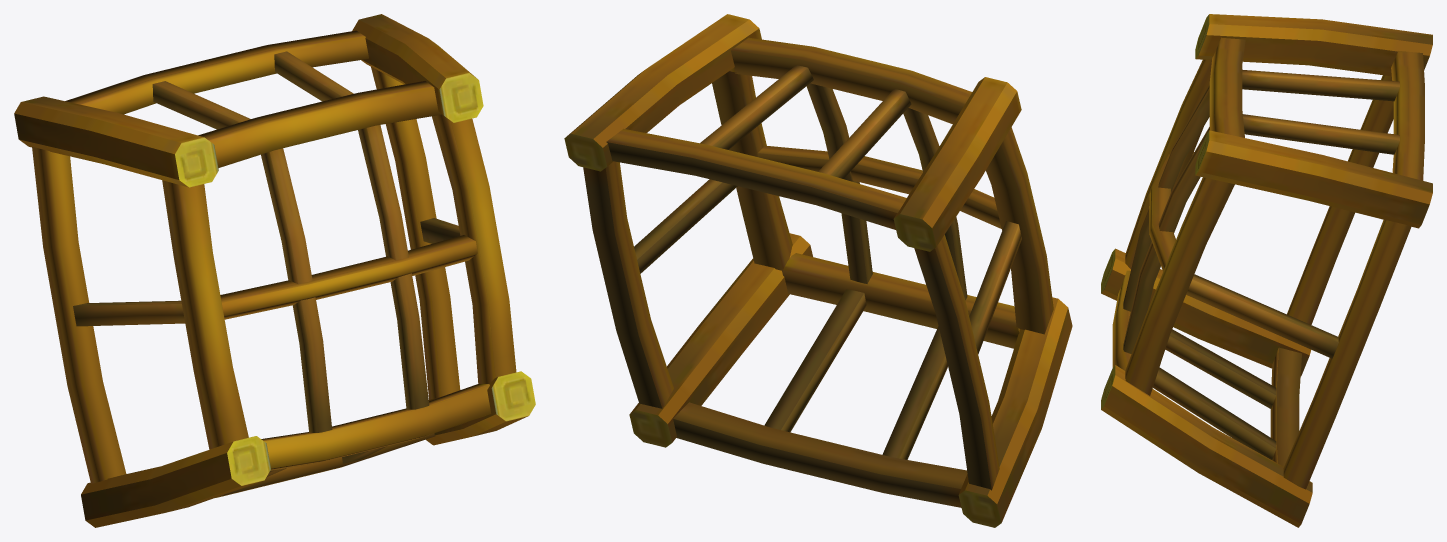
Rendered from wolf_trap (merge).fbx.
3 renders of one model, left to right at view 1: azimuth 30°, elevation 25°; view 2: azimuth 150°, elevation 25°; view 3: azimuth 270°, elevation 25°, orthographic. The views are drawn at different scales.
Visible parts, largest first — view 1: wolf_trap; view 2: wolf_trap; view 3: wolf_trap.
Part boxes in pixels (box(x1,y1,x2,y2)): wolf_trap: box(14, 14, 535, 527); wolf_trap: box(564, 14, 1072, 527); wolf_trap: box(1101, 14, 1432, 527).
Size of the model in its own units: 1.52 by 1.59 by 1.28.
